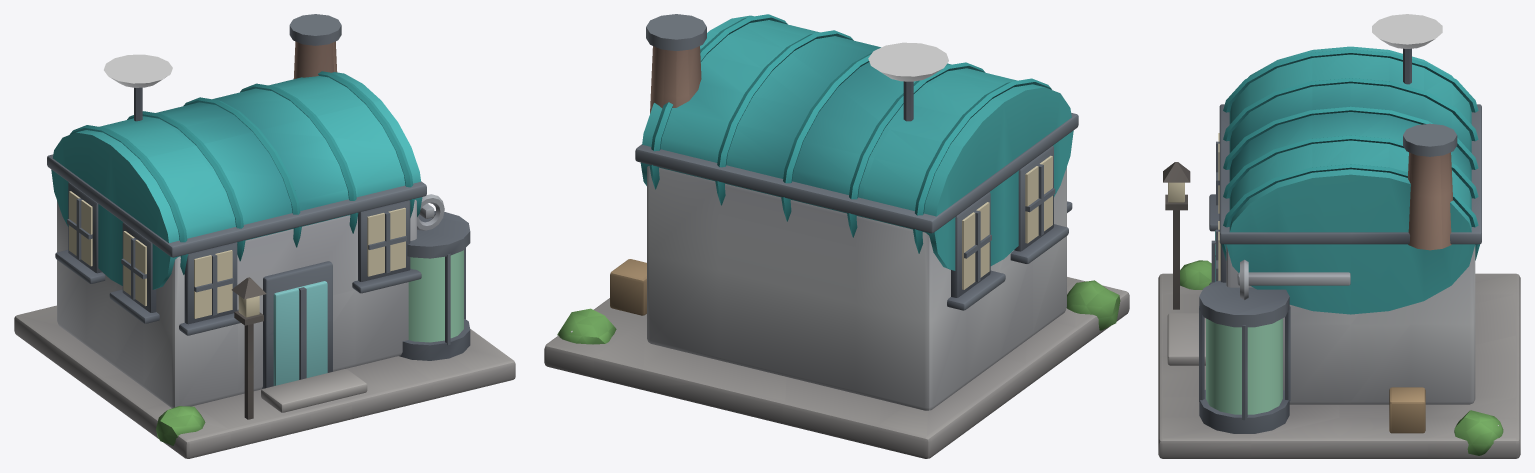
Rendered from lab.glb.
3 renders of one model, left to right at view 1: azimuth 30°, elevation 25°; view 2: azimuth 150°, elevation 25°; view 3: azimuth 270°, elevation 25°, orthographic. The views are drawn at different scales.
Visible parts, largest first — view 1: main, glow; view 2: main, glow; view 3: main, glow.
Boxes of the visible parts, box(x1,y1,x2,y2) form: main: box(14, 14, 515, 458); glow: box(69, 191, 463, 385); main: box(544, 14, 1129, 458); glow: box(962, 155, 1052, 289); main: box(1158, 14, 1520, 458); glow: box(1168, 133, 1282, 414).
Size of the model in its own units: 1.81 by 1.47 by 1.6.
